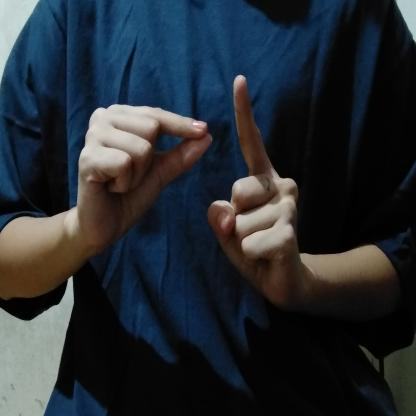son: (70, 66, 318, 323)
